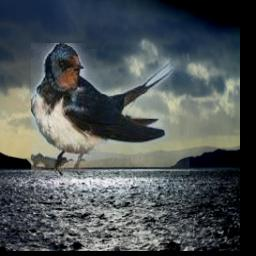Swallow: (32, 44, 190, 176)
